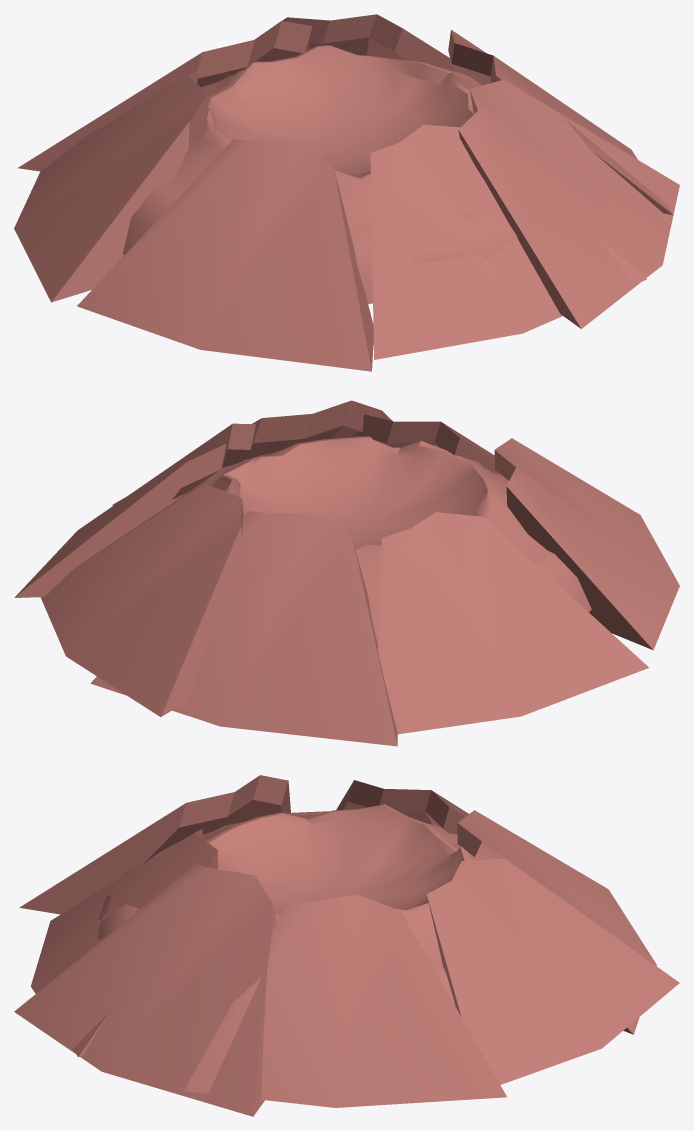
Rendered from mdlr_cratere_bubble.fbx.
3 renders of one model, top to bottom at view 1: azimuth 30°, elevation 25°; view 2: azimuth 150°, elevation 25°; view 3: azimuth 270°, elevation 25°, orthographic. The views are drawn at different scales.
Visible parts, largest first — view 1: mdl_Cratere.001, mdl_Cratere; view 2: mdl_Cratere.001, mdl_Cratere; view 3: mdl_Cratere.001, mdl_Cratere.
Part boxes in pixels (x1,y1,x2,y2): mdl_Cratere.001: (14, 14, 679, 371); mdl_Cratere: (122, 45, 517, 303); mdl_Cratere.001: (14, 400, 679, 746); mdl_Cratere: (166, 436, 591, 644); mdl_Cratere.001: (14, 775, 679, 1116); mdl_Cratere: (97, 804, 474, 1004).
Bounding box in the file's own units: 10182 × 2402 × 10181.
